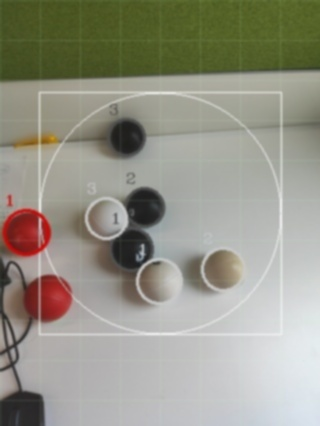Pelota blanca: (135, 257, 185, 304), (199, 246, 249, 291), (82, 196, 129, 240), (111, 228, 155, 270)
Pelota negra: (111, 228, 155, 270), (124, 185, 166, 227), (106, 116, 147, 158), (0, 390, 46, 425)
Pelota roja: (0, 206, 52, 256), (23, 273, 73, 323)
